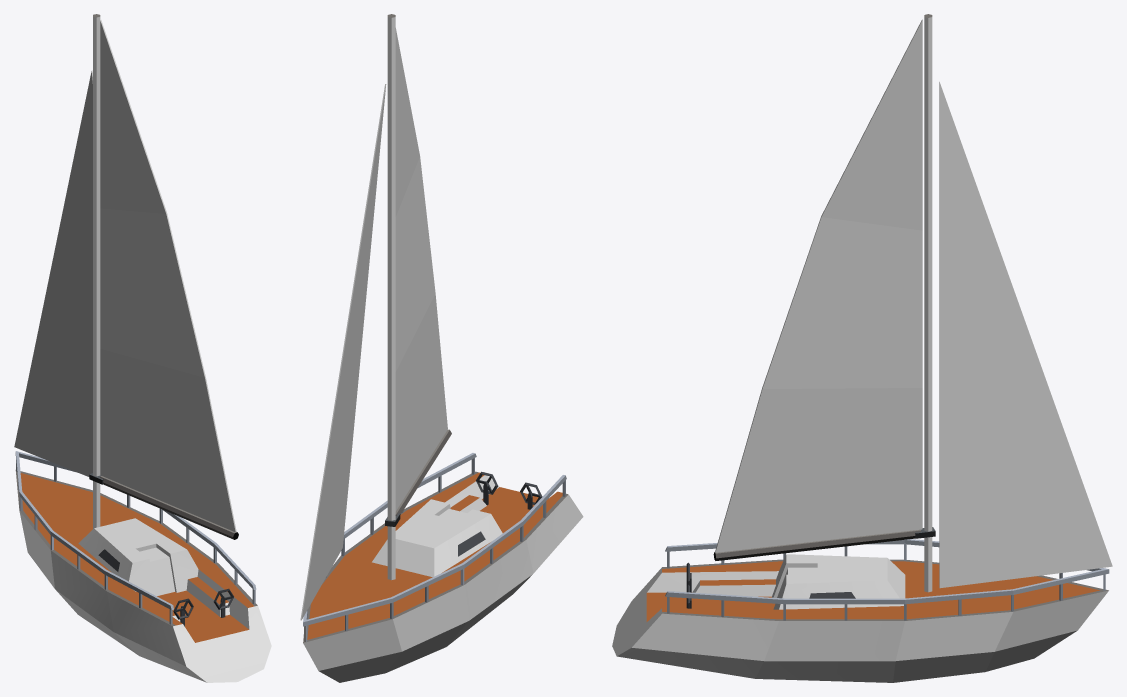
Rendered from Sailboat001.fbx.
3 views of the same model, side by side, from view 1: azimuth 30°, elevation 25°; view 2: azimuth 150°, elevation 25°; view 3: azimuth 270°, elevation 25° (orthographic). The views are drawn at different scales.
Visible parts, largest first — view 1: polySurface2549; view 2: polySurface2549; view 3: polySurface2549.
Boxes of the visible parts, <box> form: polySurface2549: <box>14,14,271,682</box>; polySurface2549: <box>300,14,583,682</box>; polySurface2549: <box>612,14,1112,682</box>.
Size of the model in its own units: 239 by 1192 by 825.
